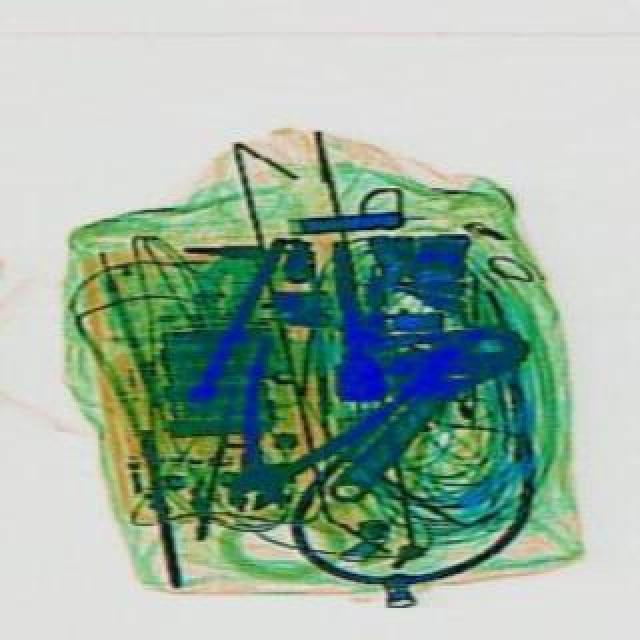scissors: (312, 312, 528, 516)
wrench: (174, 320, 406, 546)
